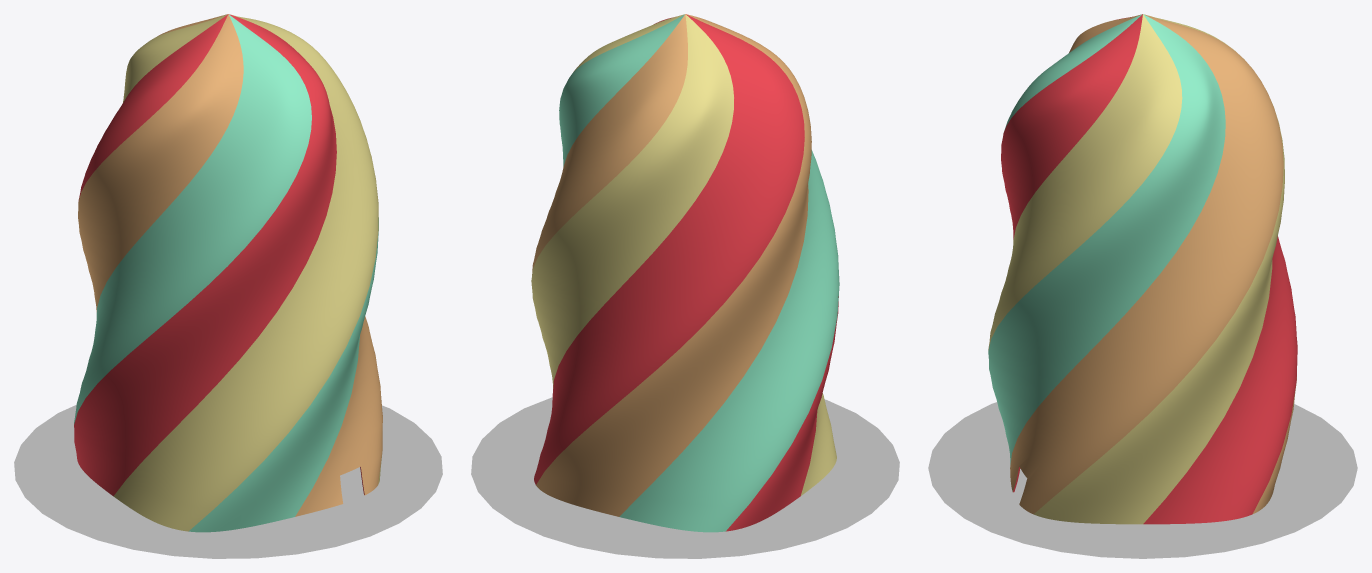
File: model_shape4_height2_surface0_.glb
3 renders of one model, left to right at view 1: azimuth 30°, elevation 25°; view 2: azimuth 150°, elevation 25°; view 3: azimuth 270°, elevation 25°, orthographic.
Parts seen in each view (by area): view 1: Plane, Circle; view 2: Plane, Circle; view 3: Plane, Circle.
Part boxes in pixels (left/top/right/bottom): Plane: left=74, top=14, right=382, bottom=532; Circle: left=14, top=405, right=442, bottom=558; Plane: left=531, top=14, right=839, bottom=532; Circle: left=471, top=397, right=899, bottom=558; Plane: left=988, top=14, right=1297, bottom=524; Circle: left=928, top=402, right=1357, bottom=558.
Size of the model in its own units: 30 by 35.06 by 30.
